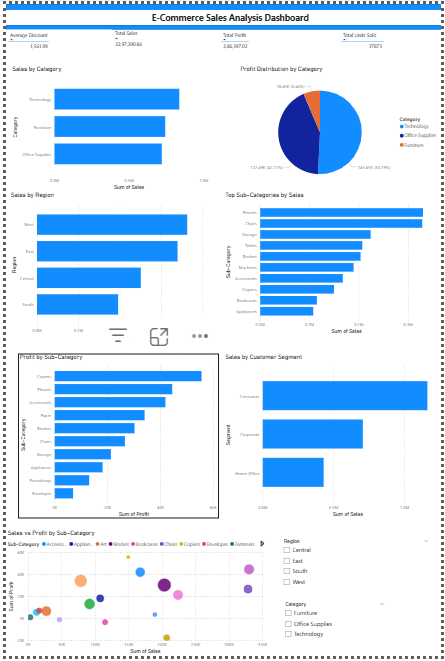

What the dashboard file says about the page in this screenshot:
{"tool":"powerbi","page":{"name":"Page 1","canvas":[1200,1800],"ordinal":0},"visuals":[{"type":"tableEx","fields":{"Values":["Sum(cleaned_superstore.Sales)"]},"box":[290.4,68.1,297.6,68.1],"z":0},{"type":"tableEx","fields":{"Values":["Sum(cleaned_superstore.Profit)"]},"box":[588,71.7,329.9,64.5],"z":1000},{"type":"tableEx","fields":{"Values":["Sum(cleaned_superstore.Quantity)"]},"box":[917.9,71.7,281.5,64.5],"z":2000},{"type":"clusteredBarChart","title":"Sales by Category","fields":{"Y":["Sum(cleaned_superstore.Sales)"],"Category":["cleaned_superstore.Category"]},"box":[10.8,170.3,552.2,347.8],"z":3000},{"type":"pieChart","title":"Profit Distribution by Category","fields":{"Category":["cleaned_superstore.Category"],"Y":["Sum(cleaned_superstore.Profit)"]},"box":[640,170.3,559.4,347.8],"z":4000},{"type":"clusteredBarChart","title":"Sales by Region","fields":{"Y":["Sum(cleaned_superstore.Sales)"],"Category":["cleaned_superstore.Region"]},"box":[10,516.7,553.3,413.3],"z":5000},{"type":"clusteredBarChart","title":"Top Sub-Categories by Sales","fields":{"Category":["cleaned_superstore.Sub-Category"],"Y":["Sum(cleaned_superstore.Sales)"]},"box":[600,516.7,596.7,396.7],"z":6000},{"type":"clusteredBarChart","title":"Profit by Sub-Category","fields":{"Y":["Sum(cleaned_superstore.Profit)"],"Category":["cleaned_superstore.Sub-Category"]},"box":[33.3,963.3,553.3,456.7],"z":7000},{"type":"clusteredBarChart","title":"Sales by Customer Segment","fields":{"Y":["Sum(cleaned_superstore.Sales)"],"Category":["cleaned_superstore.Segment"]},"box":[600,963.3,596.7,456.7],"z":8000},{"type":"slicer","fields":{"Values":["cleaned_superstore.Region"]},"box":[752.9,1470,425.7,187.1],"z":10000},{"type":"shape","box":[0,0,1280,16],"z":11000},{"type":"textbox","box":[0,16,1280,42],"z":13000},{"type":"shape","box":[0,58.8,1279.4,12.9],"z":13001},{"type":"tableEx","fields":{"Values":["Sum(cleaned_superstore.Discount)"]},"box":[0,71.7,290.4,62.7],"z":13002},{"type":"scatterChart","title":"Sales vs Profit by Sub-Category","fields":{"X":["Sum(cleaned_superstore.Sales)"],"Y":["cleaned_superstore.Profit"],"Size":["Sum(cleaned_superstore.Quantity)"],"Series":["cleaned_superstore.Sub-Category"]},"box":[0,1450,726.7,350],"z":13003},{"type":"slicer","fields":{"Values":["cleaned_superstore.Category"]},"box":[757.5,1642.5,300,157.5],"z":13004}]}

Visuals, with their boxes in screenshot pixels (x1, y1, x2, y2), scaled from the page's 1200x1800 canvas onto the 445x661 screenshot:
tableEx - Sum(cleaned_superstore.Sales): locate(108, 25, 218, 50)
tableEx - Sum(cleaned_superstore.Profit): locate(218, 26, 340, 50)
tableEx - Sum(cleaned_superstore.Quantity): locate(340, 26, 444, 50)
"Sales by Category" clusteredBarChart: locate(4, 63, 209, 190)
"Profit Distribution by Category" pieChart: locate(237, 63, 444, 190)
"Sales by Region" clusteredBarChart: locate(4, 190, 209, 342)
"Top Sub-Categories by Sales" clusteredBarChart: locate(222, 190, 444, 335)
"Profit by Sub-Category" clusteredBarChart: locate(12, 354, 218, 521)
"Sales by Customer Segment" clusteredBarChart: locate(222, 354, 444, 521)
slicer - cleaned_superstore.Region: locate(279, 540, 437, 609)
shape: locate(0, 0, 444, 6)
textbox: locate(0, 6, 444, 21)
shape: locate(0, 22, 444, 26)
tableEx - Sum(cleaned_superstore.Discount): locate(0, 26, 108, 49)
"Sales vs Profit by Sub-Category" scatterChart: locate(0, 532, 269, 660)
slicer - cleaned_superstore.Category: locate(281, 603, 392, 660)
